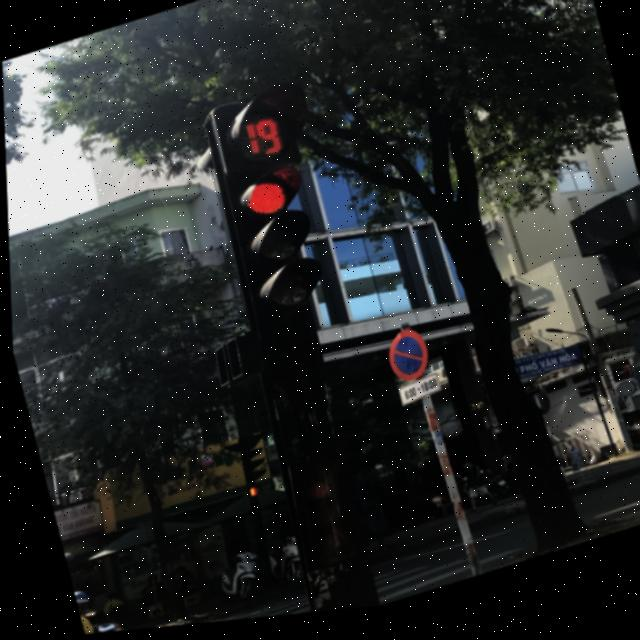Red: (217, 154, 328, 328)
